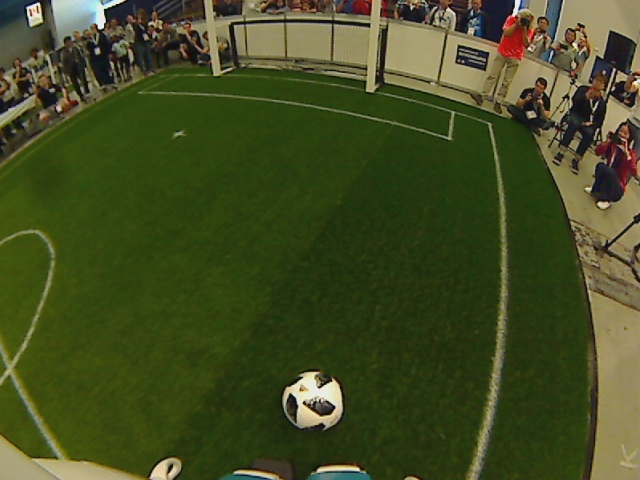ball: (279, 369, 344, 433)
